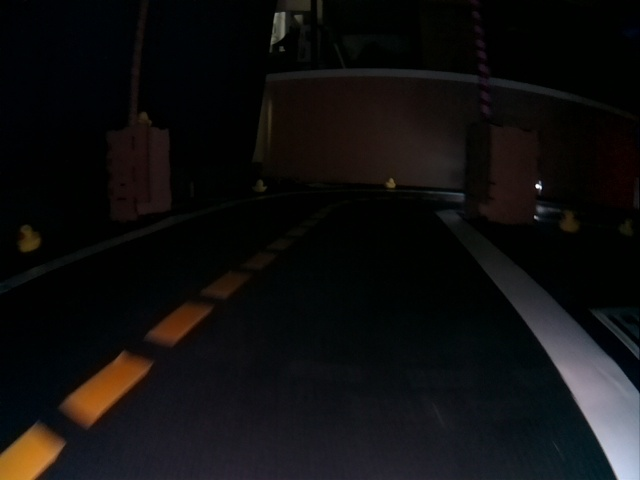Duckie: (17, 227, 41, 250), (559, 210, 576, 231), (620, 219, 632, 236), (137, 113, 152, 124), (255, 182, 266, 192), (389, 180, 396, 187)
